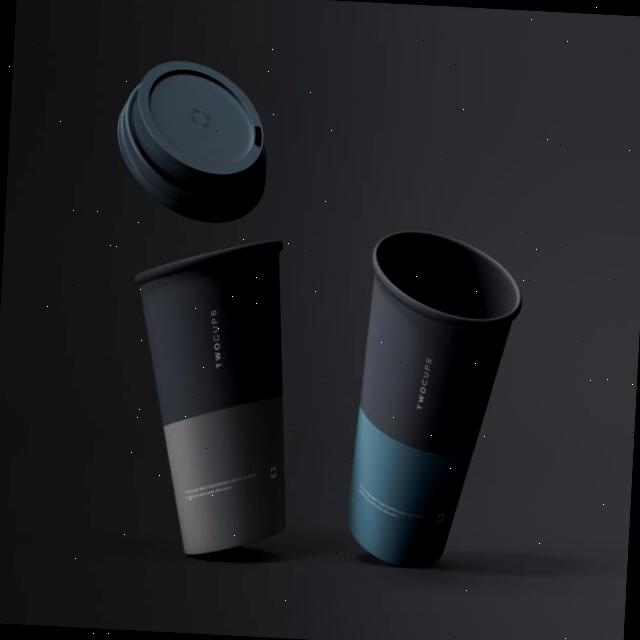trash: (342, 223, 528, 574), (120, 229, 304, 562)
